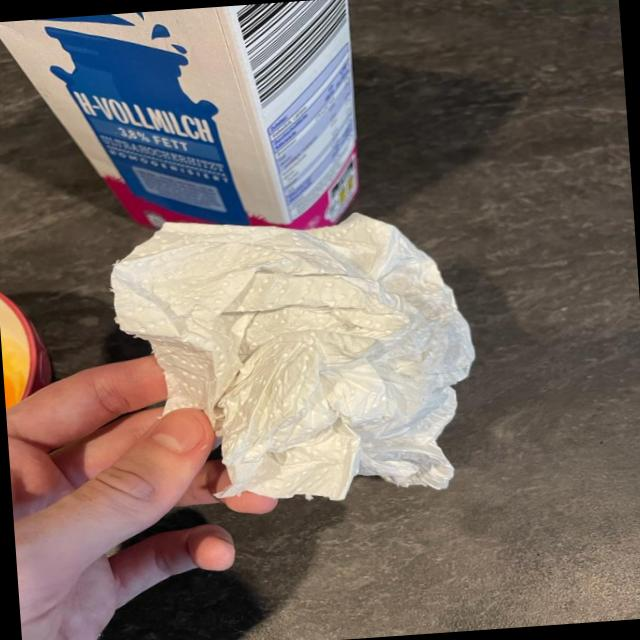organic waste: (108, 198, 488, 516)
